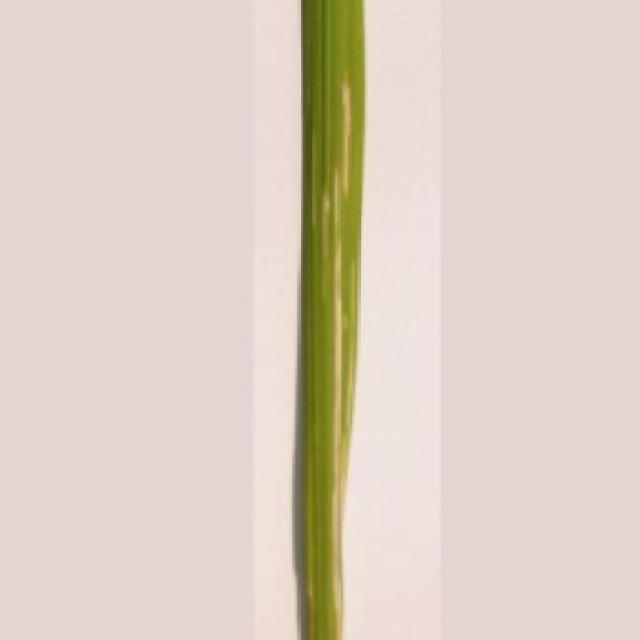Brown_Spot: (293, 0, 373, 640)
